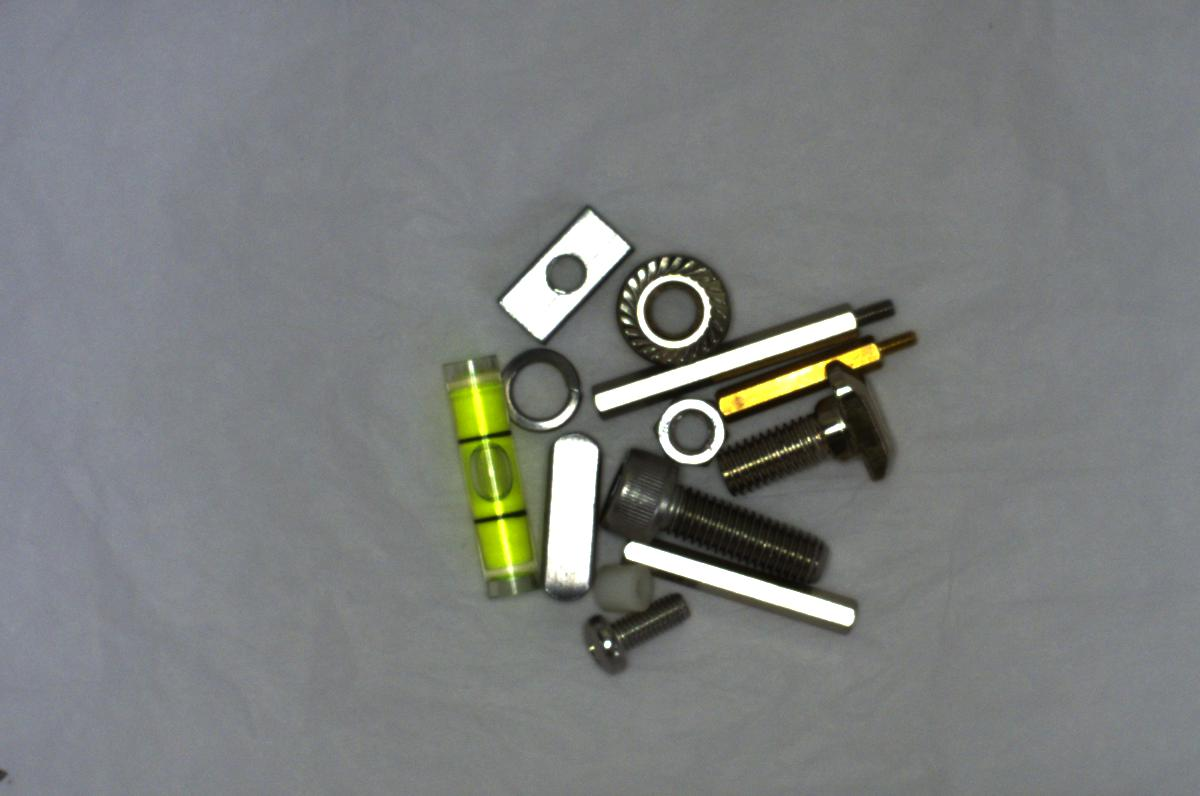Double hexagonal column: (612, 536, 869, 637)
Flange nut: (611, 254, 750, 356)
Hexagon nut: (648, 398, 730, 469)
Hexagon pillar: (714, 308, 932, 415)
Hexagon screw: (603, 445, 834, 591)
Hexagonal steel column: (561, 298, 923, 419)
Horizontal bubble: (424, 344, 543, 610)
Keybar: (542, 424, 602, 601)
Plastic cushion pillar: (593, 559, 656, 618)
Rectangular nut: (492, 201, 639, 339)
Round head screw: (583, 585, 703, 673)
Spring washer: (491, 339, 592, 437)
T-shaped screw: (708, 365, 920, 489)
